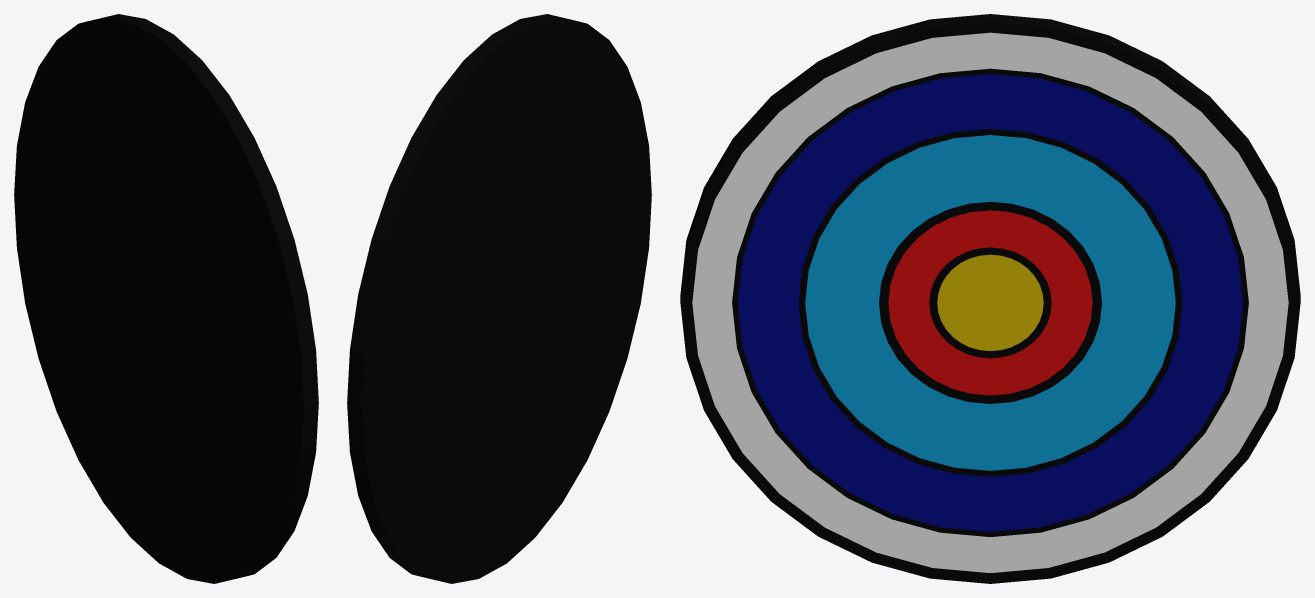
The model's file is ShootingTarget.fbx.
3 views of the same model, side by side, from view 1: azimuth 30°, elevation 25°; view 2: azimuth 150°, elevation 25°; view 3: azimuth 270°, elevation 25° (orthographic). The views are drawn at different scales.
Parts seen in each view (by area): view 1: Target; view 2: Target; view 3: Target.
Part boxes in pixels (x1=…): Target: x1=14, y1=14, x2=318, y2=583; Target: x1=347, y1=14, x2=651, y2=583; Target: x1=680, y1=14, x2=1300, y2=583.
Bounding box in the file's own units: 3 × 100 × 100.
